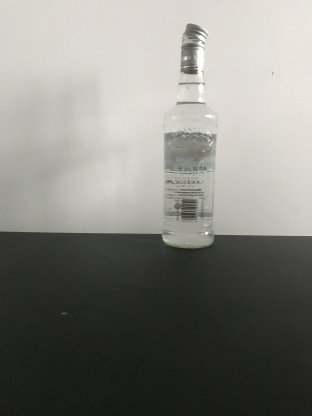nakretka: (179, 21, 209, 74)
